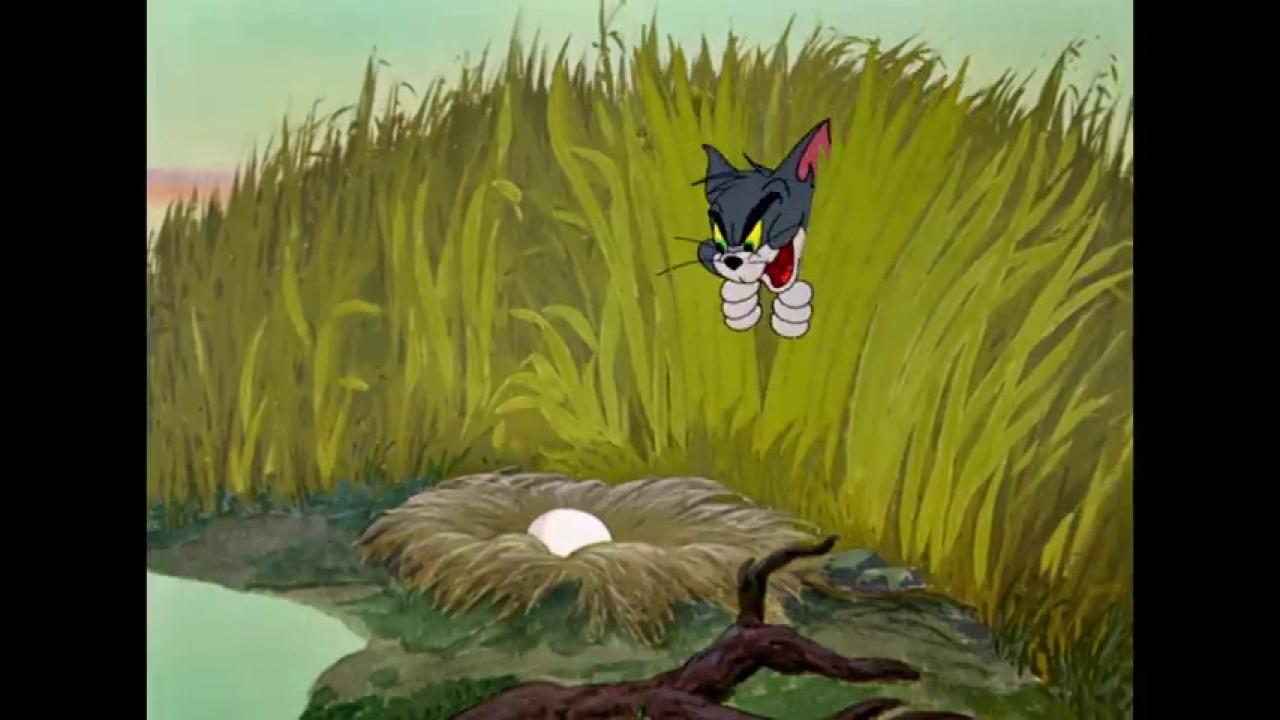Tom: (688, 118, 836, 343)
